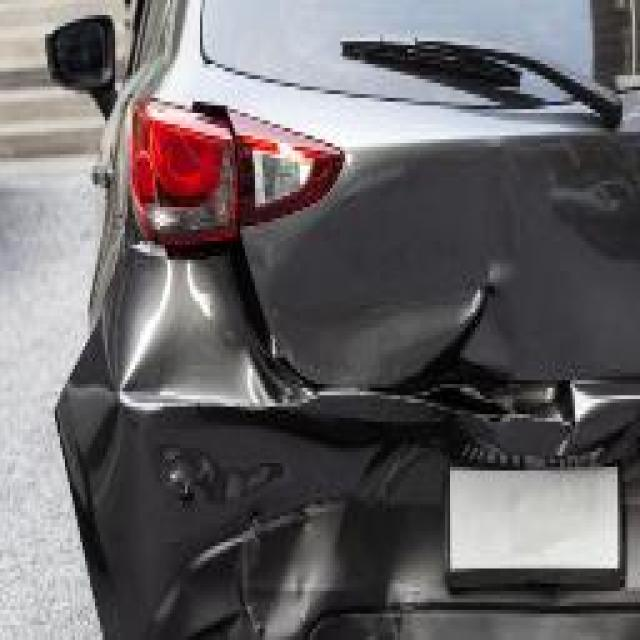Bumper: (62, 384, 640, 640)
Dickey: (250, 237, 600, 414)
